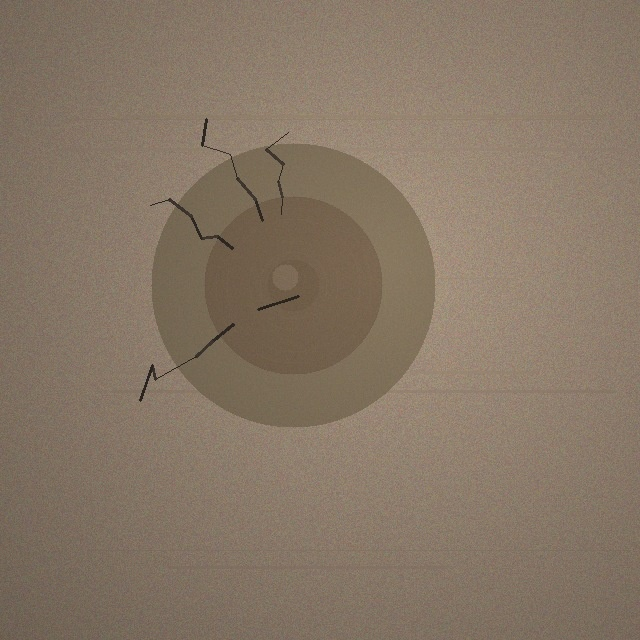crack: (151, 143, 435, 427)
